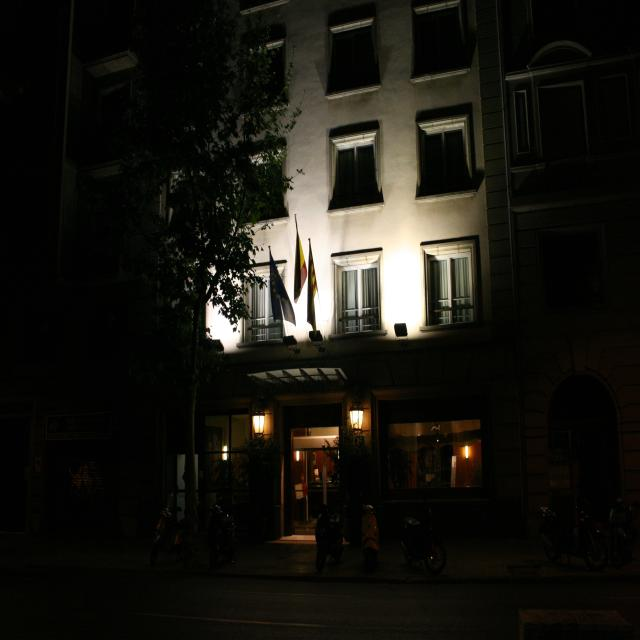Motorbike: (521, 479, 606, 582), (393, 491, 449, 578), (143, 484, 195, 561), (203, 489, 242, 573), (604, 490, 640, 581), (351, 489, 386, 571), (305, 490, 341, 569)
